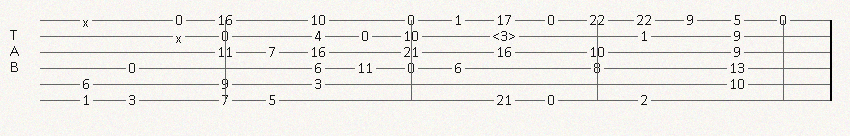0: (128, 61, 140, 75), (175, 13, 187, 27), (221, 29, 233, 43), (361, 29, 373, 43), (407, 61, 419, 75), (407, 13, 419, 27), (547, 13, 559, 27), (547, 93, 559, 107), (779, 13, 791, 27)
1: (82, 93, 94, 107), (454, 13, 466, 27), (640, 29, 652, 43)
10: (310, 13, 330, 27), (403, 29, 423, 43), (589, 45, 609, 59), (729, 77, 749, 91)
11: (217, 45, 237, 59), (357, 61, 377, 75)
13: (729, 61, 749, 75)
16: (217, 13, 237, 27), (310, 45, 330, 59), (496, 45, 516, 59)
17: (496, 13, 516, 27)
2: (640, 93, 652, 107)
21: (403, 45, 423, 59), (496, 93, 516, 107)
22: (589, 13, 609, 27), (636, 13, 656, 27)
3: (128, 93, 140, 107), (314, 77, 326, 91)
4: (314, 29, 326, 43)
5: (268, 93, 280, 107), (733, 13, 745, 27)
6: (82, 77, 94, 91), (314, 61, 326, 75), (454, 61, 466, 75)
7: (221, 93, 233, 107), (268, 45, 280, 59)
8: (593, 61, 605, 75)
9: (221, 77, 233, 91), (686, 13, 698, 27), (733, 45, 745, 59), (733, 29, 745, 43)
harmonic: (492, 29, 520, 43)
x: (82, 15, 93, 26), (175, 31, 186, 42)
